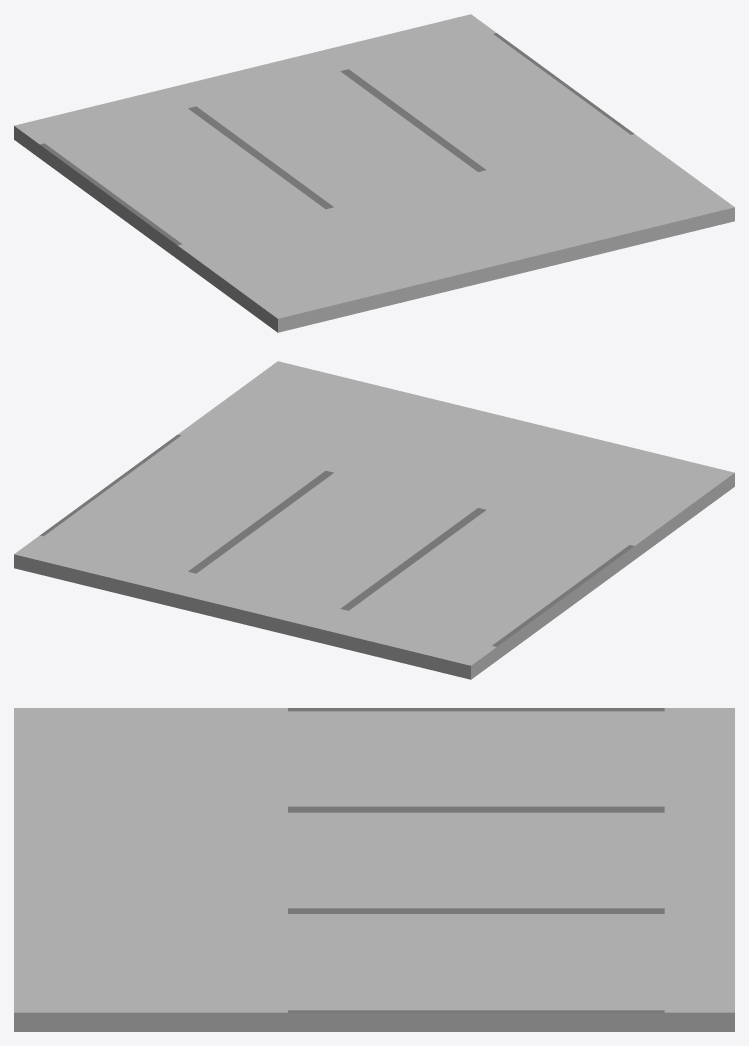
File: SM_CarPark_01.FBX
3 renders of one model, top to bottom at view 1: azimuth 30°, elevation 25°; view 2: azimuth 150°, elevation 25°; view 3: azimuth 270°, elevation 25°, orthographic. The views are drawn at different scales.
Visible parts, largest first — view 1: SM_CarPark_01; view 2: SM_CarPark_01; view 3: SM_CarPark_01.
Boxes of the visible parts, bbox=[...] form: SM_CarPark_01: bbox=[14, 14, 734, 332]; SM_CarPark_01: bbox=[14, 361, 734, 679]; SM_CarPark_01: bbox=[14, 708, 734, 1031].
Bounding box in the file's own units: 6 × 0.175 × 6.
1 material, 1 textured.
